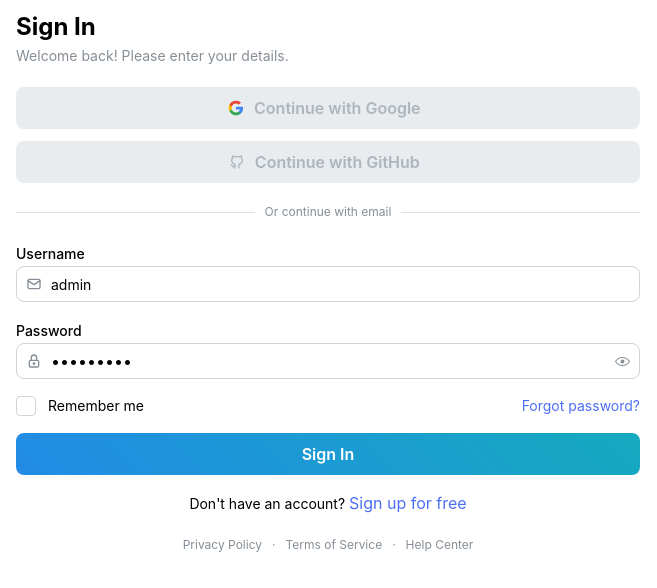
LoginForm › shows validation error when username is submitted empty
This screenshot has width=657, height=588.
Clear the pre-filled username
Clear the field labelled "Username": [328, 284] box [16,266,640,302]
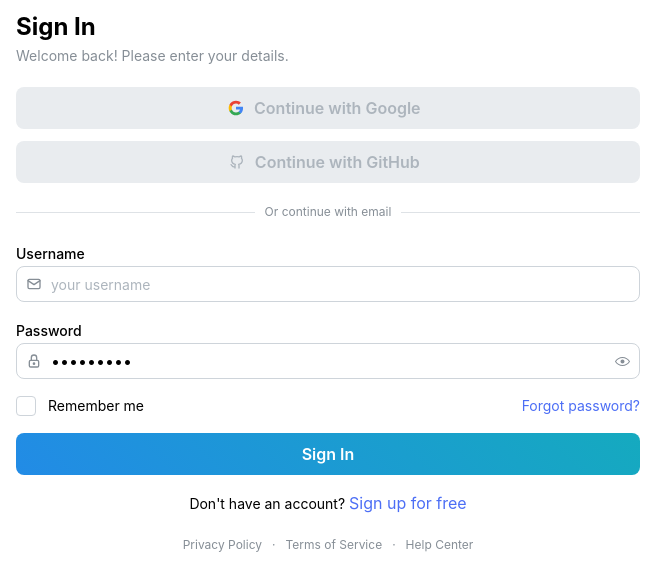
Click the button "Sign In": [328, 454] box [16,433,640,475]
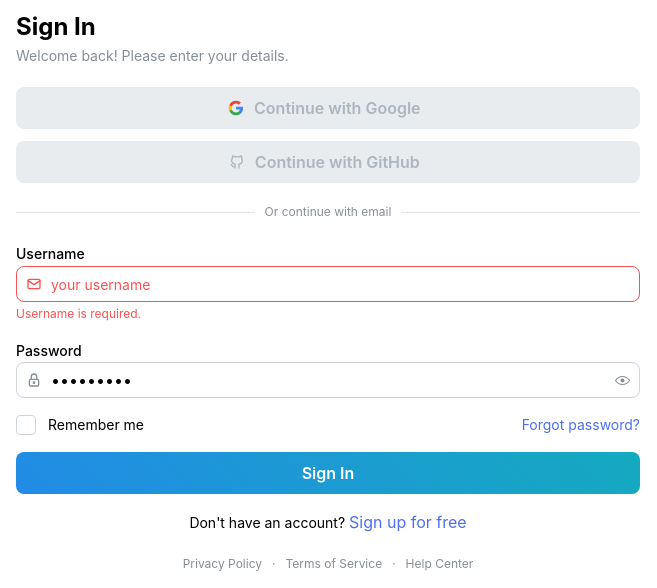
Result: the text "Username is required." is shown at [16,306,141,321]
